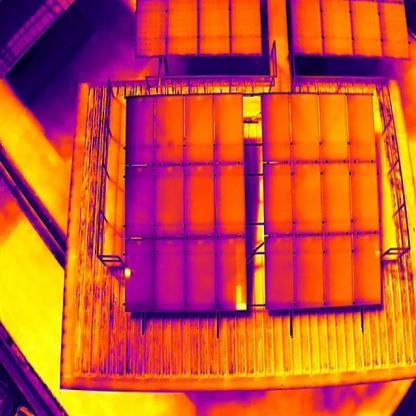anomaly: (233, 285, 249, 312), (122, 267, 134, 277)
